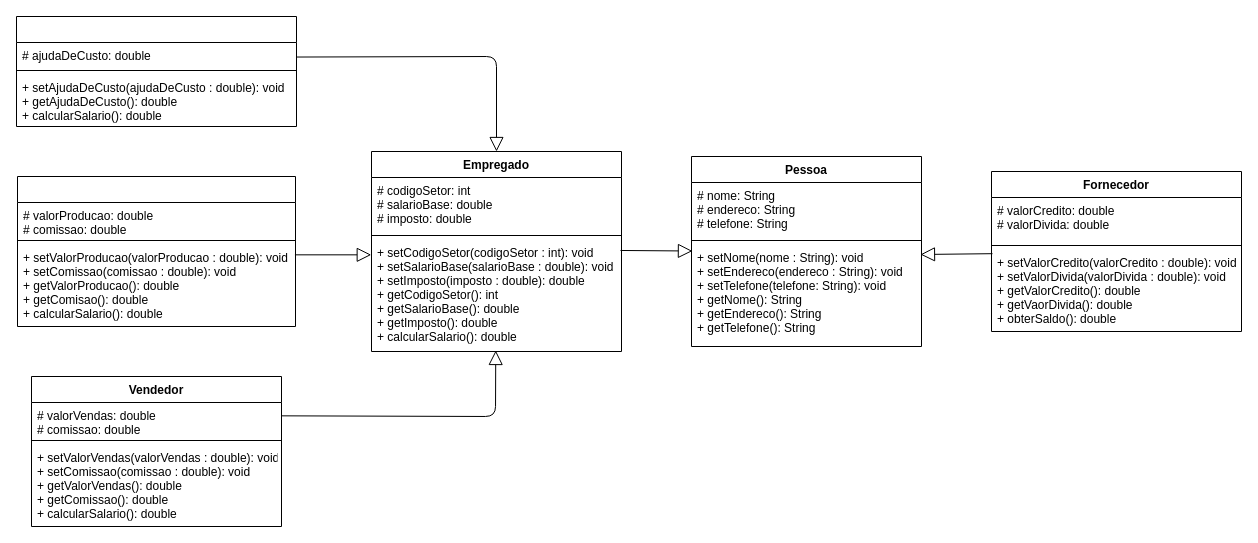
The diagram is 1258 pixels wide and 543 high, and some of its shapes have lost their labels. Each missing label, with the box of its shape:
Administrador: (16, 16, 296, 126)
Operario: (16, 176, 296, 326)
